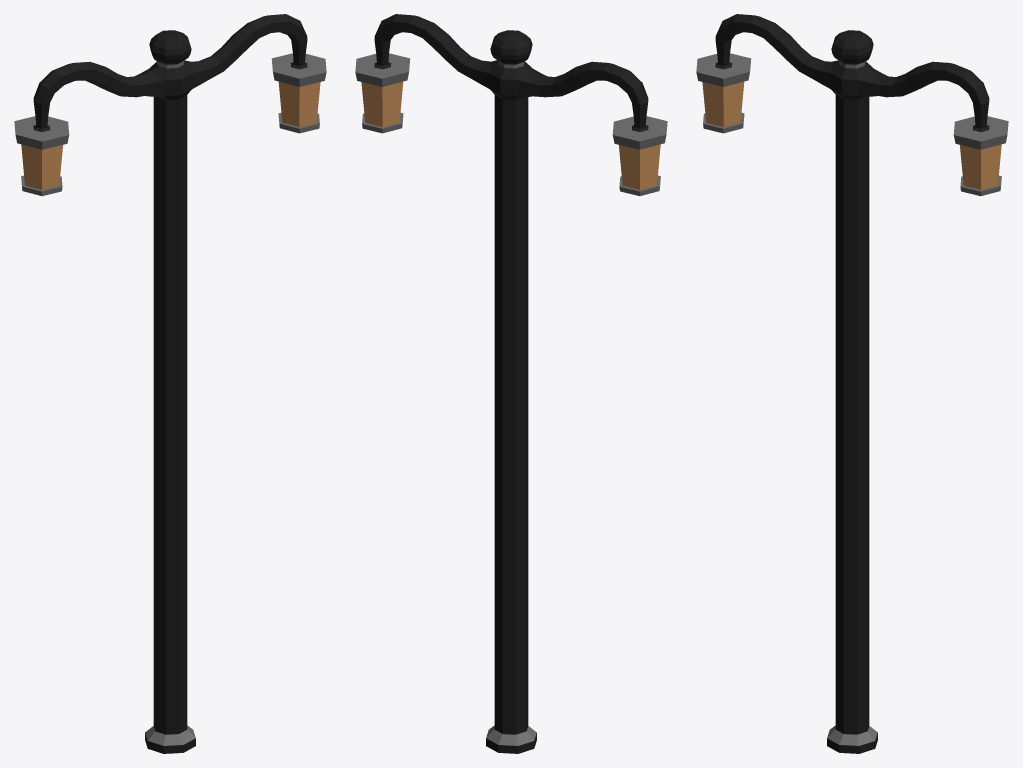
Rendered from Tori_Lamppu.fbx.
The picture shows the model from 3 angles, left to right: view 1: azimuth 30°, elevation 25°; view 2: azimuth 150°, elevation 25°; view 3: azimuth 330°, elevation 25°; orthographic projection.
Parts seen in each view (by area): view 1: Circle; view 2: Circle; view 3: Circle.
Part boxes in pixels (x1,y1,x2,y2): Circle: (14,14,326,753); Circle: (355,14,667,753); Circle: (696,14,1008,753).
Bounding box in the file's own units: 204 × 447 × 31.84.
